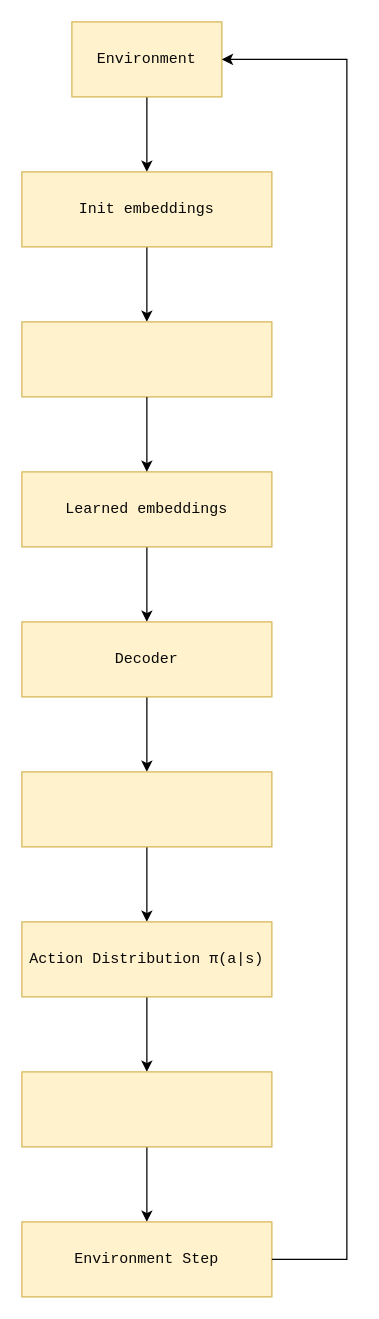
The diagram is 379 pixels wide and 1319 high, and some of its shapes have lost their labels. Each missing label, with the centre of its shape:
"Actor (MLP)" goes at [146,809].
"HetGNN Encoder" goes at [146,359].
"Selected Action (job, machine, truck)" goes at [146,1109].
